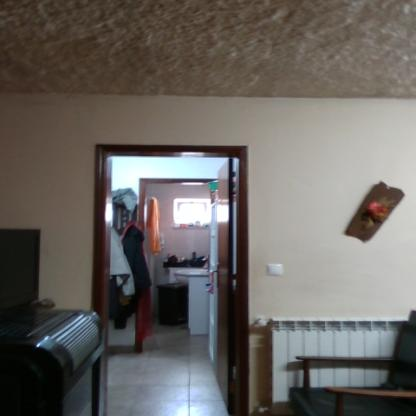open: (84, 131, 263, 410)
